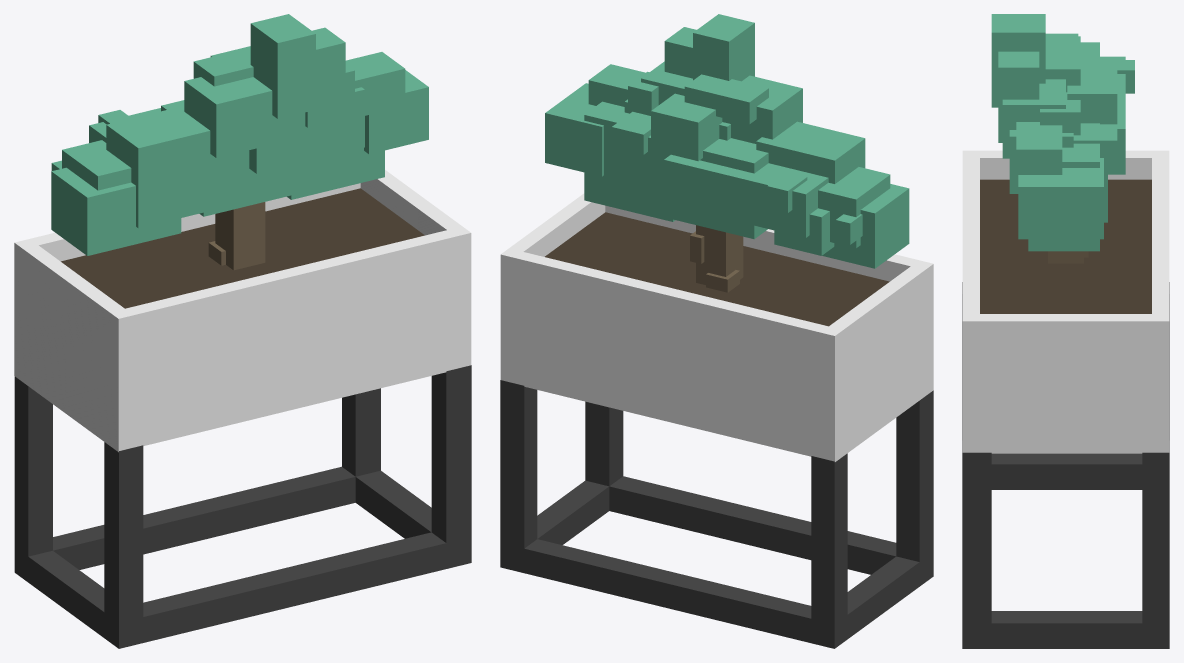
The model's file is plant03_05.gltf.
The picture shows the model from 3 angles, left to right: view 1: azimuth 30°, elevation 25°; view 2: azimuth 150°, elevation 25°; view 3: azimuth 270°, elevation 25°; orthographic projection. The views are drawn at different scales.
Parts seen in each view (by area): view 1: plant03_stage01:pot1, plant03_stage01:pot, plant03_stage01:dirt, plant03_stage08:plant03_stage04:pCube4, plant03_stage08:pCube7, plant03_stage08:pCube10, pCube14, plant03_stage08:plant03_stage04:plant03_stage04:pCube2, plant03_stage08:plant03_stage04:pCube3, pCube11, plant03_stage08:pCube8, plant03_stage08:plant03_stage04:plant03_stage04:pCube1 (+4 smaller); view 2: plant03_stage01:pot1, plant03_stage01:pot, plant03_stage01:dirt, plant03_stage08:plant03_stage04:plant03_stage04:pCube3, plant03_stage08:plant03_stage04:plant03_stage04:pCube2, plant03_stage08:plant03_stage04:pCube4, pCube11, plant03_stage08:pCube7, plant03_stage08:pCube10, pCube14, plant03_stage08:pCube6, plant03_stage08:pCube11 (+10 smaller); view 3: plant03_stage01:pot1, plant03_stage01:pot, plant03_stage01:dirt, pCube11, pCube14, pCube10, plant03_stage08:pCube6, plant03_stage08:pCube8, plant03_stage08:pCube7, plant03_stage08:pCube11, pCube15, plant03_stage08:plant03_stage04:plant03_stage04:pCube3 (+5 smaller).
Boxes of the visible parts, x1,y1,x2,y2 form: plant03_stage01:pot1: (14, 170, 471, 452); plant03_stage01:pot: (14, 365, 471, 648); plant03_stage01:dirt: (61, 188, 424, 308); plant03_stage08:plant03_stage04:pCube4: (106, 106, 221, 228); plant03_stage08:pCube7: (184, 64, 354, 157); plant03_stage08:pCube10: (51, 167, 181, 255); pCube14: (250, 14, 315, 118); plant03_stage08:plant03_stage04:plant03_stage04:pCube2: (161, 100, 341, 216); plant03_stage08:plant03_stage04:pCube3: (249, 87, 364, 173); pCube11: (364, 70, 428, 154); plant03_stage08:pCube8: (305, 27, 345, 127); plant03_stage08:plant03_stage04:plant03_stage04:pCube1: (215, 202, 265, 270); plant03_stage01:pot1: (500, 193, 933, 461); plant03_stage01:pot: (500, 380, 933, 648); plant03_stage01:dirt: (545, 212, 889, 326); plant03_stage08:plant03_stage04:plant03_stage04:pCube3: (664, 154, 828, 237); plant03_stage08:plant03_stage04:plant03_stage04:pCube2: (623, 135, 768, 239); plant03_stage08:plant03_stage04:pCube4: (756, 121, 865, 183); pCube11: (545, 83, 603, 176); plant03_stage08:pCube7: (641, 61, 802, 143); plant03_stage08:pCube10: (822, 184, 909, 268); pCube14: (693, 14, 754, 81); plant03_stage08:pCube6: (651, 93, 722, 161); plant03_stage08:pCube11: (584, 101, 675, 221); plant03_stage01:pot1: (962, 150, 1169, 453); plant03_stage01:pot: (962, 282, 1169, 648); plant03_stage01:dirt: (980, 179, 1151, 313); pCube11: (1018, 158, 1103, 239); pCube14: (991, 14, 1045, 107); pCube10: (1016, 122, 1062, 186); plant03_stage08:pCube6: (1067, 69, 1117, 124); plant03_stage08:pCube8: (998, 51, 1039, 142); plant03_stage08:pCube7: (1002, 79, 1065, 158); plant03_stage08:pCube11: (1028, 123, 1099, 251); pCube15: (1045, 36, 1080, 92); plant03_stage08:plant03_stage04:plant03_stage04:pCube3: (1080, 56, 1125, 174).
Size of the model in its own units: 0.0279 by 0.0414 by 0.0142.
Materials: 1 (1 with a texture image).
